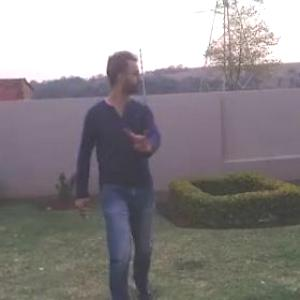takeoff-hand: (124, 119, 157, 155)
